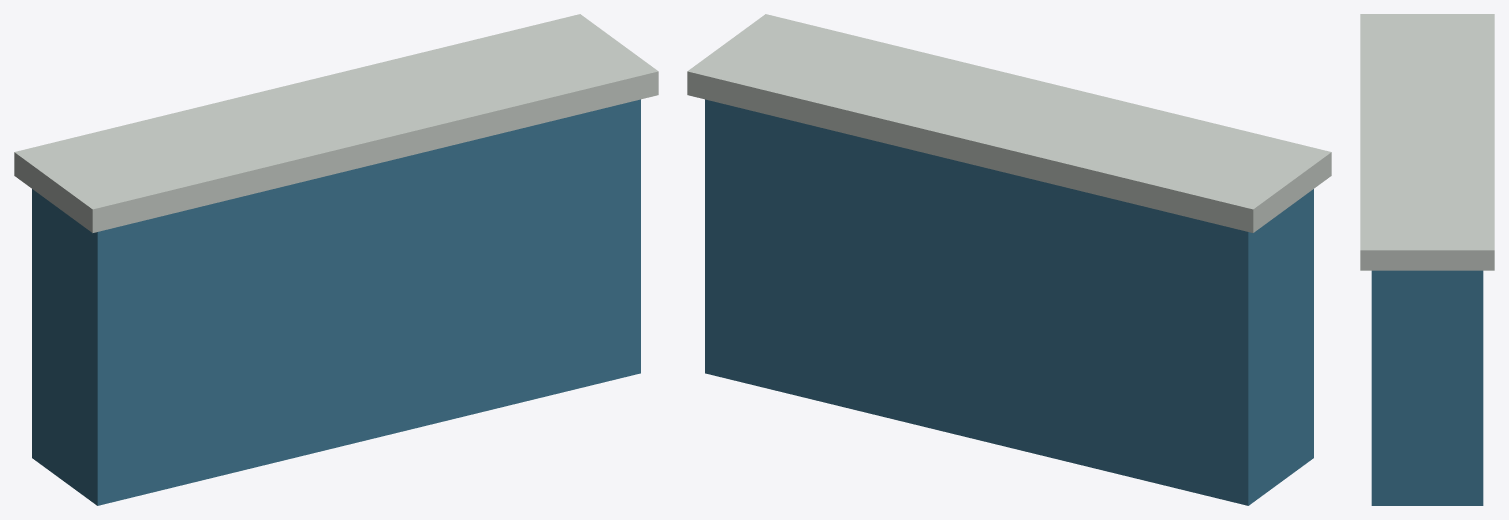
File: wall.glb
The picture shows the model from 3 angles, left to right: view 1: azimuth 30°, elevation 25°; view 2: azimuth 150°, elevation 25°; view 3: azimuth 270°, elevation 25°; orthographic projection. The views are drawn at different scales.
Visible parts, largest first — view 1: wall; view 2: wall; view 3: wall.
Part boxes in pixels (<box>): wall: <box>14,14,658,505</box>; wall: <box>687,14,1331,505</box>; wall: <box>1360,14,1494,505</box>.
Bounding box in the file's own units: 3.75 × 1.93 × 0.9.
